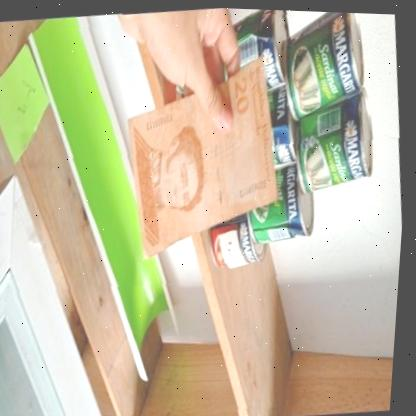twenty-front-vef: (112, 46, 293, 262)
